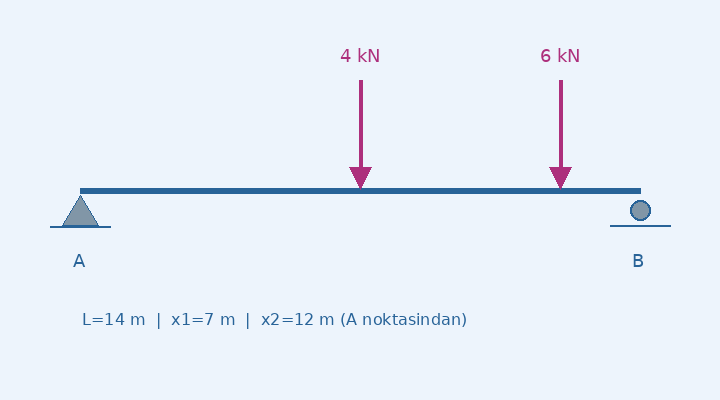pin_support: (61, 190, 99, 226)
point_load: (346, 76, 374, 190), (546, 76, 574, 190)
roller_support: (625, 196, 655, 227)
